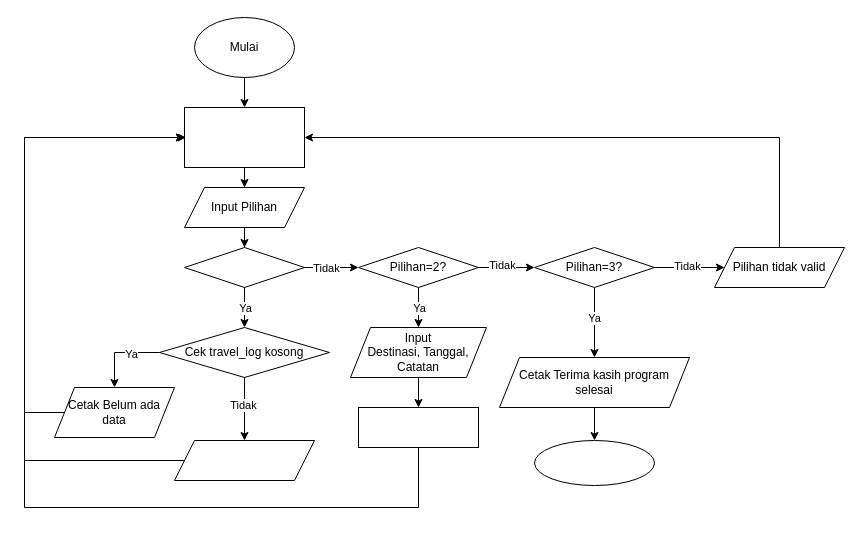
The diagram is 862 pixels wide and 533 high, and some of its shapes have lost their labels. Here are the shapes that lost their labels. From the top down, the centre of each, then its label:
the point at 244,137: Tampilkan Menu 1. Lihat Log 2. Tambah Log 3. Keluar
the point at 244,267: Pilihan=1?
the point at 418,427: Tambahkan ke traver log
the point at 244,460: Tampilkan daftar log
the point at 594,463: Selesai
